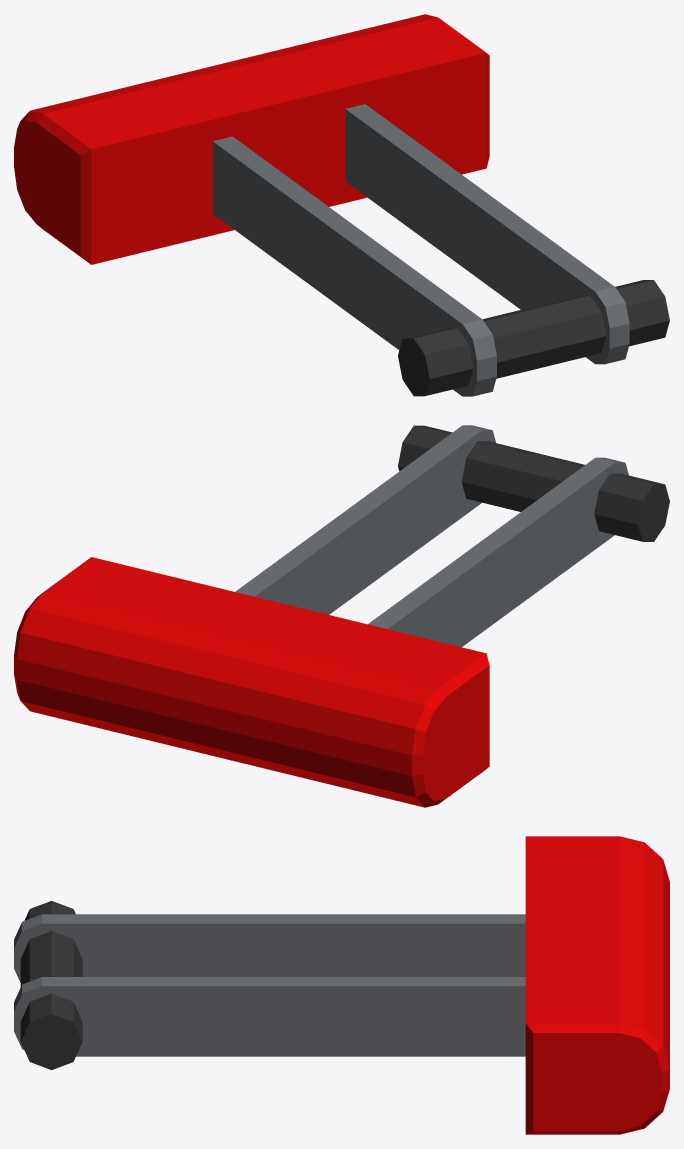
Rendered from LightGreyMetalMechSmallTShapedLever1Switch.fbx.
3 views of the same model, one above another, from view 1: azimuth 30°, elevation 25°; view 2: azimuth 150°, elevation 25°; view 3: azimuth 270°, elevation 25° (orthographic). The views are drawn at different scales.
Visible parts, largest first — view 1: LightGreyMetalMechSmallTShapedLever1Switch; view 2: LightGreyMetalMechSmallTShapedLever1Switch; view 3: LightGreyMetalMechSmallTShapedLever1Switch.
Part boxes in pixels (x1,y1,x2,y2): LightGreyMetalMechSmallTShapedLever1Switch: (14, 14, 669, 396); LightGreyMetalMechSmallTShapedLever1Switch: (14, 425, 669, 807); LightGreyMetalMechSmallTShapedLever1Switch: (14, 836, 669, 1134).
Bounding box in the file's own units: 73.94 × 20 × 106.
